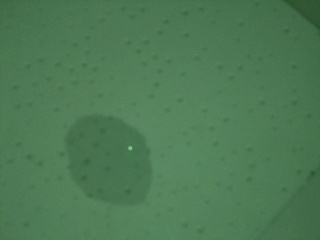Water_detected: (75, 127, 139, 194)
